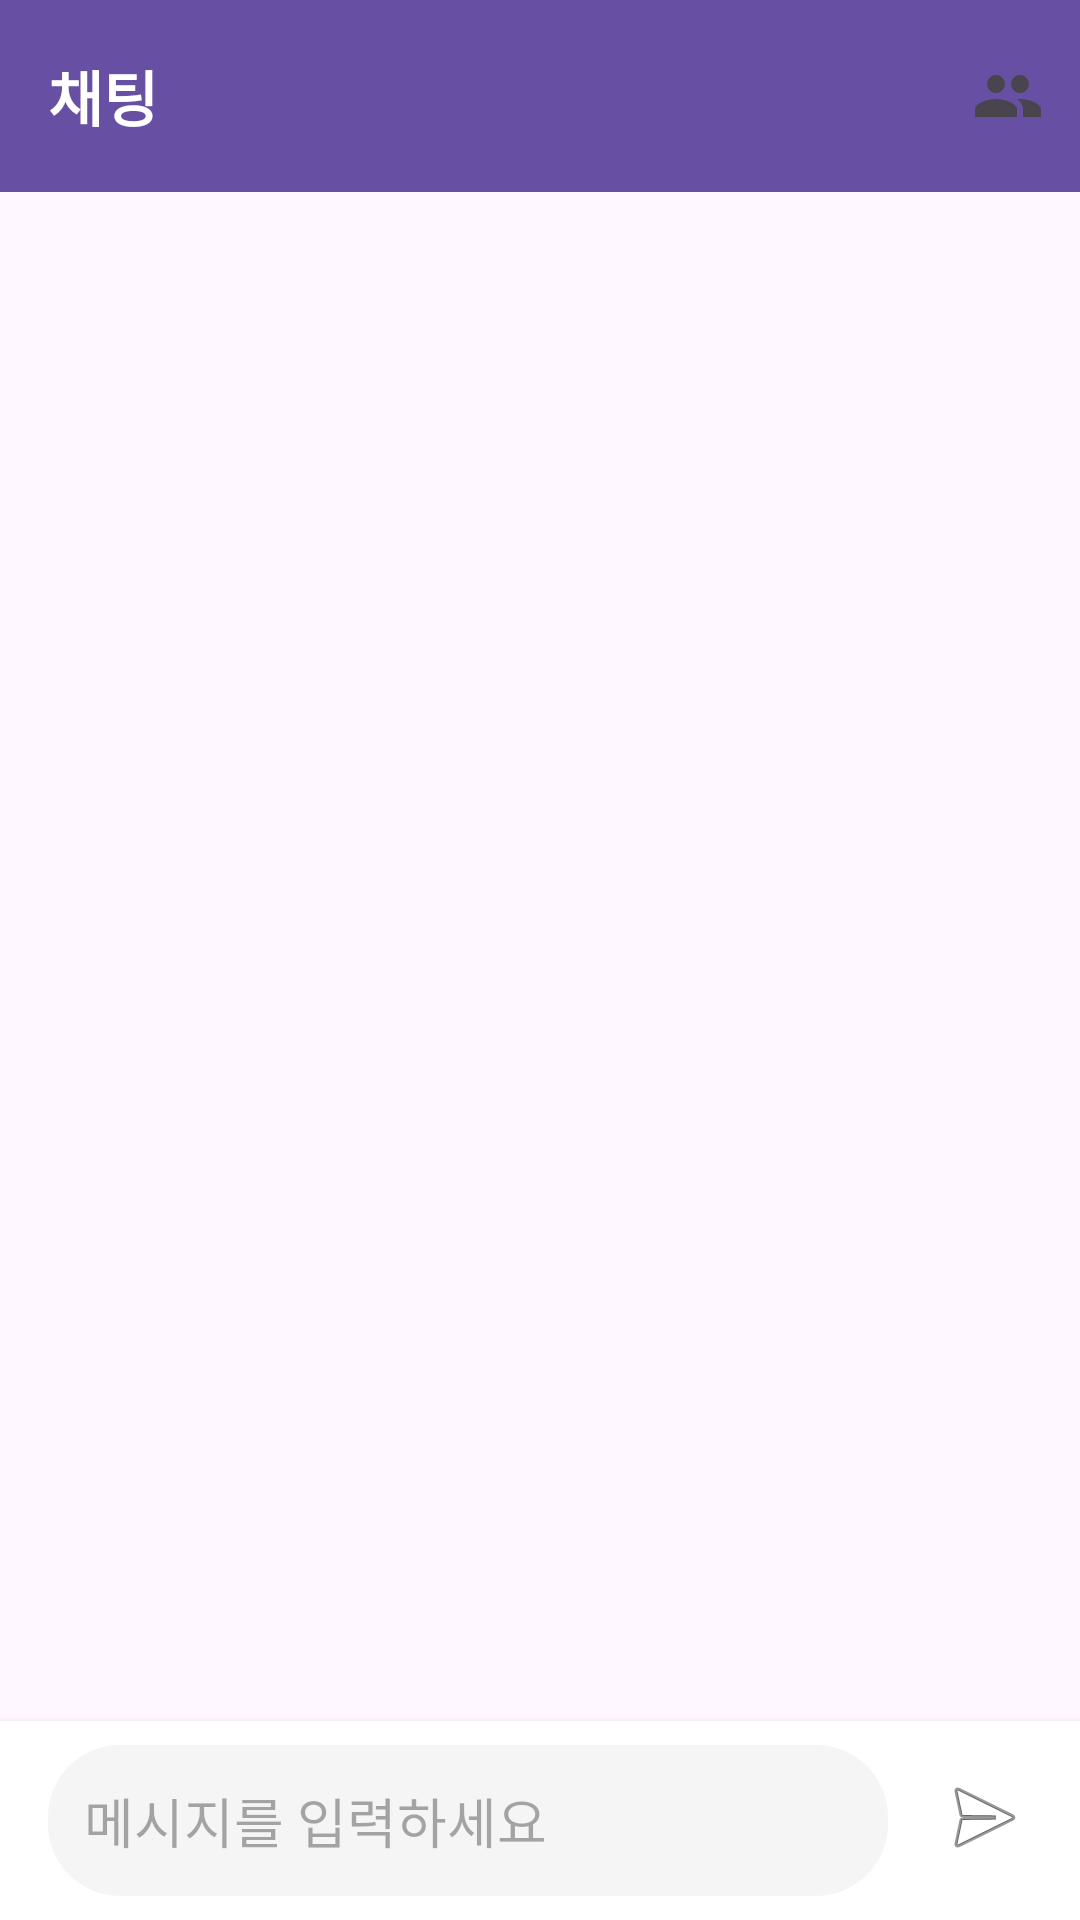

Point at icon controls on the screen. Image size 1080px x 1920px, points as (x,y).
메시지 전송: (985,1817)
참여자 목록: (1008,96)
